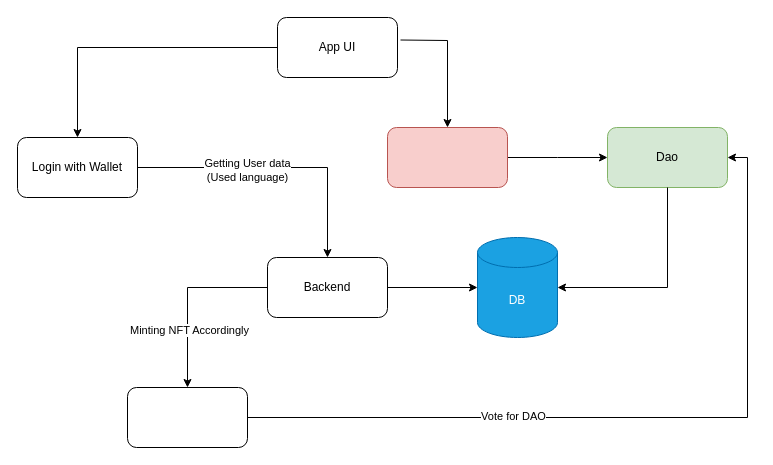
This 773x465 diagram has some shape labels left out. Each missing label, with the centre of its shape:
Badge NFT: the point at 187,417
DAO Create proposal: the point at 447,157
